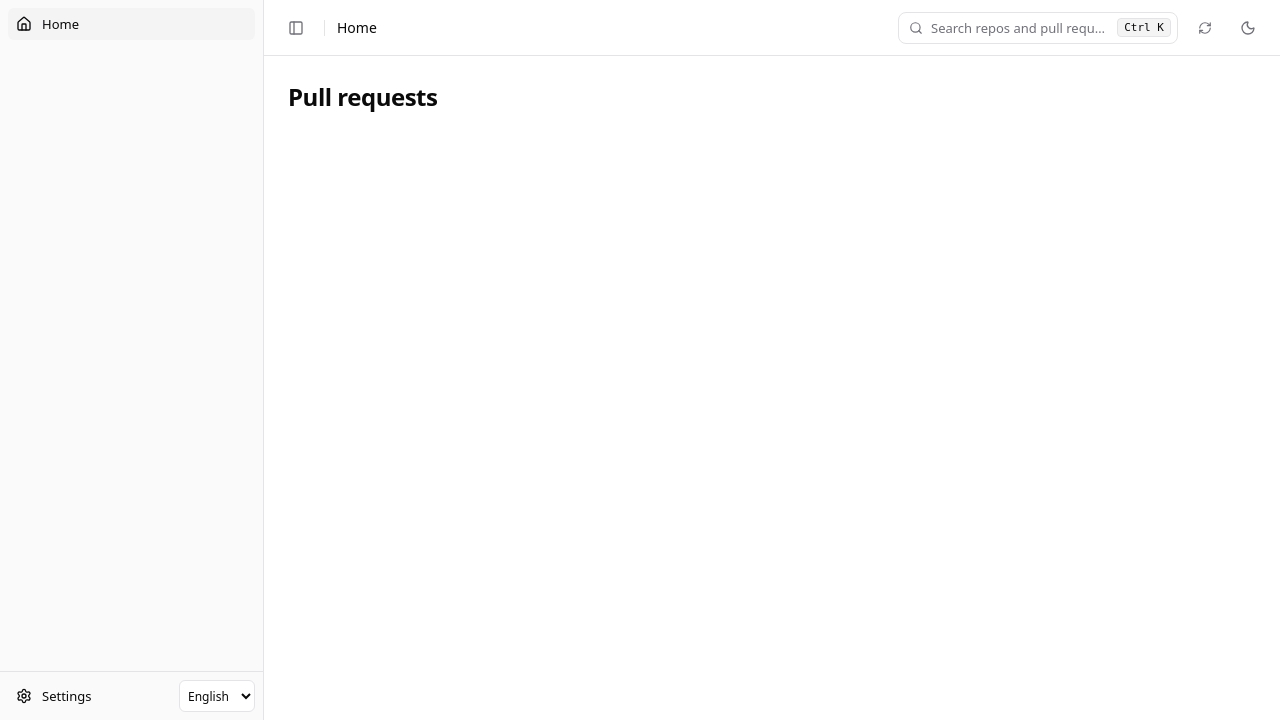
Test: the theme toggle flips light and dark
Click the button named "Switch to dark theme" at coordinates (1248, 28), box [1232,12,1264,44]
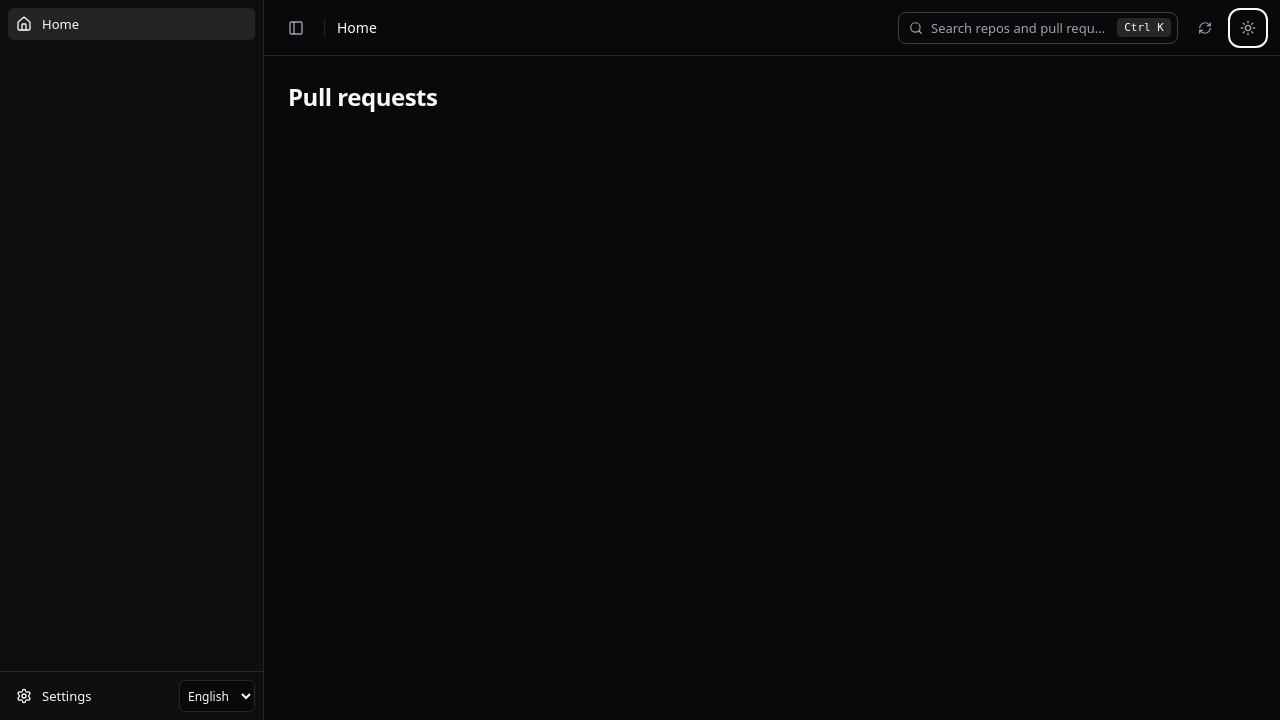
Now the button named "Switch to light theme" is shown, box [1232,12,1264,44]
